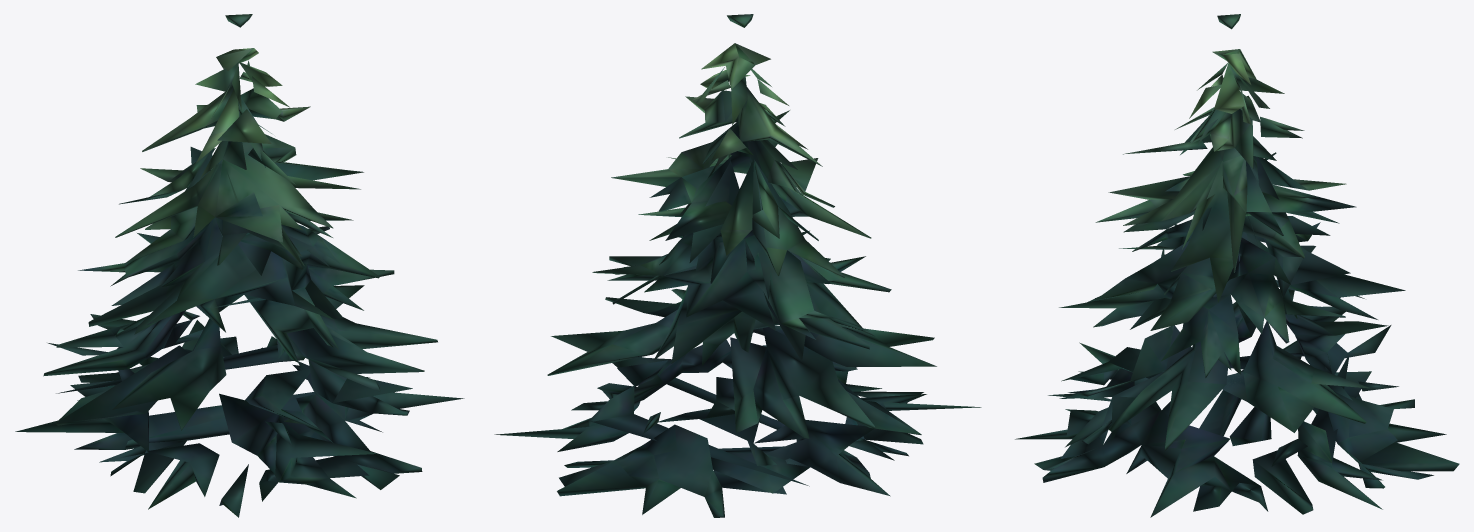
File: tree_fir.glb
3 renders of one model, left to right at view 1: azimuth 30°, elevation 25°; view 2: azimuth 150°, elevation 25°; view 3: azimuth 270°, elevation 25°, orthographic. The views are drawn at different scales.
Parts seen in each view (by area): view 1: tripo_node_2a09de9c-7cf2-4904-8146-0cc4eac7dd34; view 2: tripo_node_2a09de9c-7cf2-4904-8146-0cc4eac7dd34; view 3: tripo_node_2a09de9c-7cf2-4904-8146-0cc4eac7dd34.
Boxes of the visible parts, x1,y1,x2,y2 form: tripo_node_2a09de9c-7cf2-4904-8146-0cc4eac7dd34: (15,14,464,517); tripo_node_2a09de9c-7cf2-4904-8146-0cc4eac7dd34: (494,14,981,517); tripo_node_2a09de9c-7cf2-4904-8146-0cc4eac7dd34: (1015,14,1459,517).
Size of the model in its own units: 0.8219 by 0.8767 by 0.8356.
Materials: 1 (1 with a texture image).
